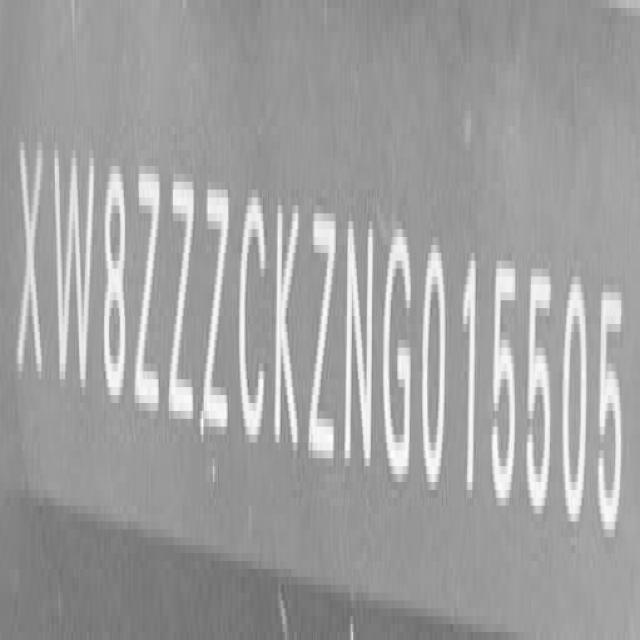0: (419, 223, 448, 507), (560, 266, 589, 533)
1: (456, 234, 478, 498)
5: (491, 234, 517, 512), (527, 261, 554, 509), (598, 272, 624, 524)
8: (102, 144, 130, 416)
C: (237, 184, 267, 448)
G: (381, 205, 414, 494)
K: (272, 164, 304, 471)
N: (342, 190, 376, 474)
W: (52, 114, 98, 407)
X: (16, 120, 45, 398)
Z: (201, 152, 230, 439), (307, 184, 336, 471), (167, 143, 194, 436), (134, 150, 162, 418)
